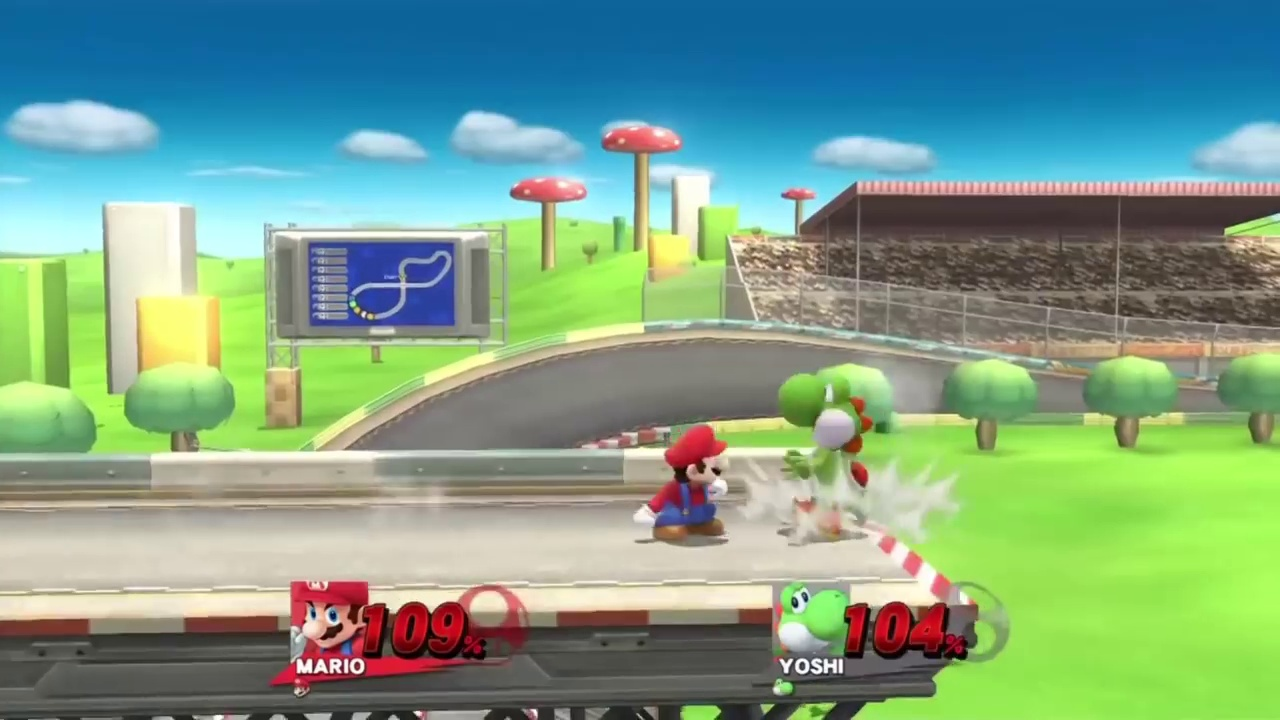Mario: (633, 420, 731, 543)
